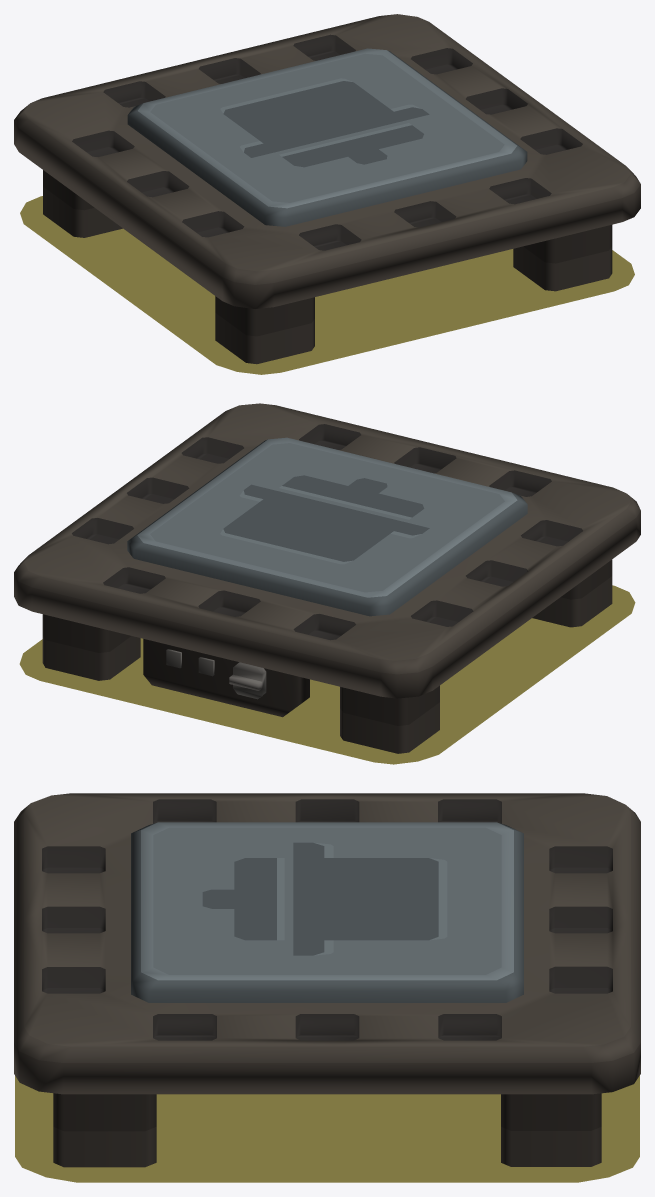
File: BC_stove.fbx
3 renders of one model, top to bottom at view 1: azimuth 30°, elevation 25°; view 2: azimuth 150°, elevation 25°; view 3: azimuth 270°, elevation 25°, orthographic. The views are drawn at different scales.
Visible parts, largest first — view 1: BC_stove; view 2: BC_stove; view 3: BC_stove.
Part boxes in pixels (box(x1,y1,x2,y2)): BC_stove: box(14, 14, 640, 374); BC_stove: box(14, 403, 640, 764); BC_stove: box(14, 793, 640, 1182).
Bounding box in the file's own units: 4.9 × 1.33 × 4.94.
